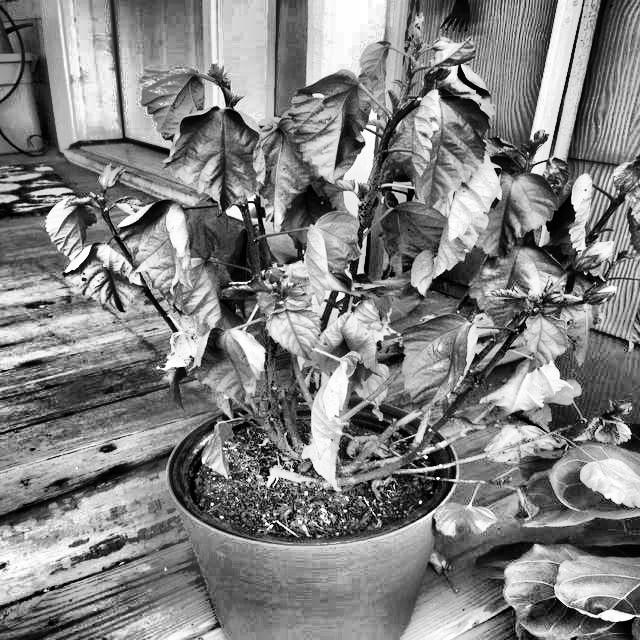plants: (48, 61, 606, 640), (466, 294, 588, 484), (302, 342, 424, 492), (355, 295, 407, 339), (160, 326, 206, 374), (274, 260, 324, 298)
